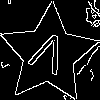V: (24, 29, 71, 84)
